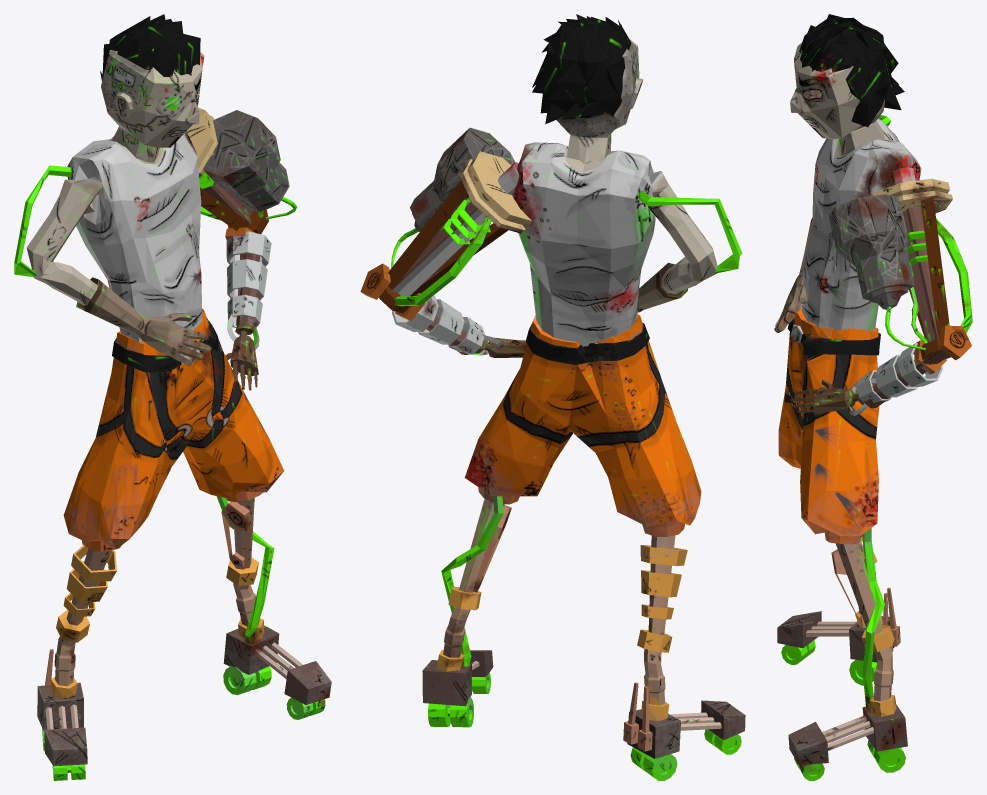
The model's file is CyborgFINALAnimation_000008.obj.
3 renders of one model, left to right at view 1: azimuth 30°, elevation 25°; view 2: azimuth 150°, elevation 25°; view 3: azimuth 270°, elevation 25°, orthographic. The views are drawn at different scales.
Parts seen in each view (by area): view 1: CyborgMesh_Cube.002; view 2: CyborgMesh_Cube.002; view 3: CyborgMesh_Cube.002.
Boxes of the visible parts, <box> form: CyborgMesh_Cube.002: <box>14,14,331,780</box>; CyborgMesh_Cube.002: <box>360,14,745,780</box>; CyborgMesh_Cube.002: <box>774,14,972,780</box>.
Size of the model in its own units: 4.37 by 9.61 by 2.48.
